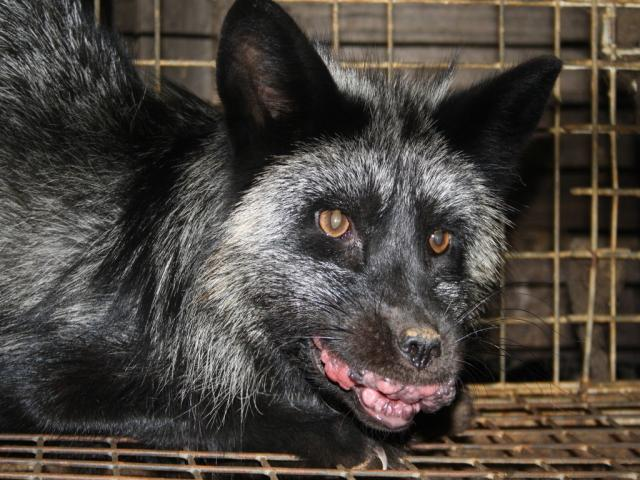Dog: (0, 0, 563, 480)
